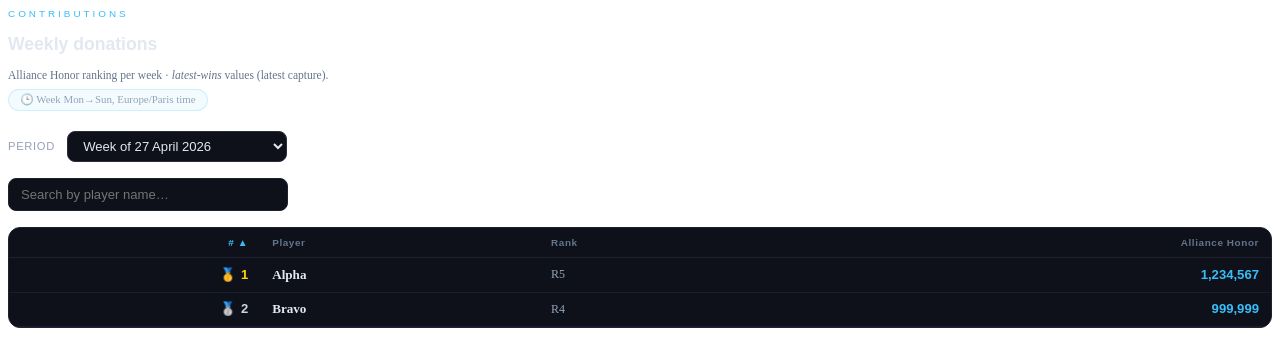
DonationsPage › switches the leaderboard when another period is selected
Expected: the text "Alpha" is shown, [260, 257, 539, 292]
Select "Week of 20 April 2026" in the dropdown named "Period selector": (177, 146) [67, 131, 287, 162]
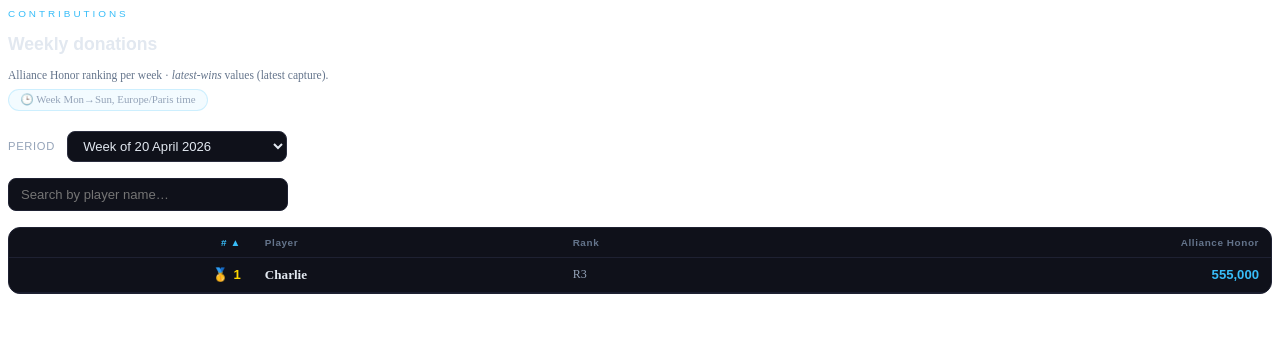
Now the text "Charlie" is shown, box [253, 257, 561, 292]
Now the text "Alpha" is gone
